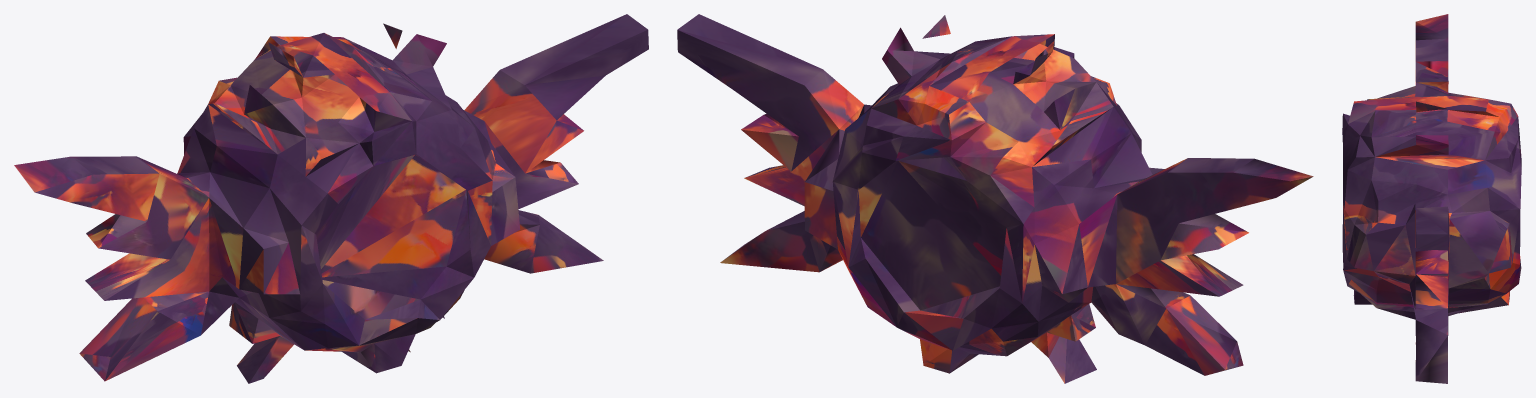
3 views of the same model, side by side, from view 1: azimuth 30°, elevation 25°; view 2: azimuth 150°, elevation 25°; view 3: azimuth 270°, elevation 25° (orthographic). The views are drawn at different scales.
Parts seen in each view (by area): view 1: ai_model; view 2: ai_model; view 3: ai_model.
Part boxes in pixels (<box>): ai_model: <box>14,14,648,383</box>; ai_model: <box>677,14,1313,383</box>; ai_model: <box>1342,14,1521,383</box>.
Size of the model in its own units: 1 by 0.505 by 0.3411.
